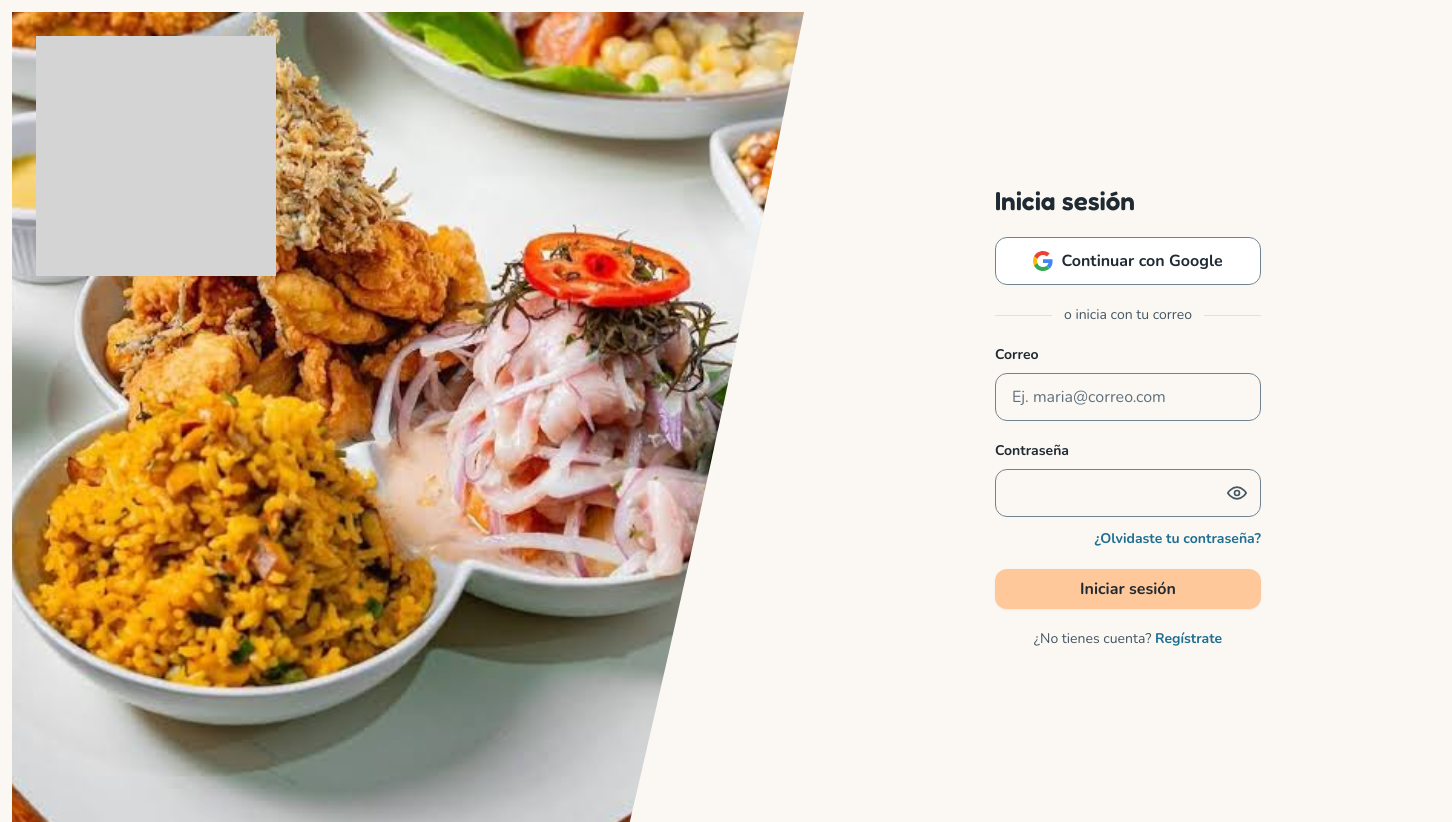
Test case: LoginPage › muestra los campos obligatorios vacíos al enviar sin completar nada
The width and height of the screenshot is (1452, 822).
Click the button "Iniciar sesión". click: (1128, 589)
box: [995, 569, 1261, 609]
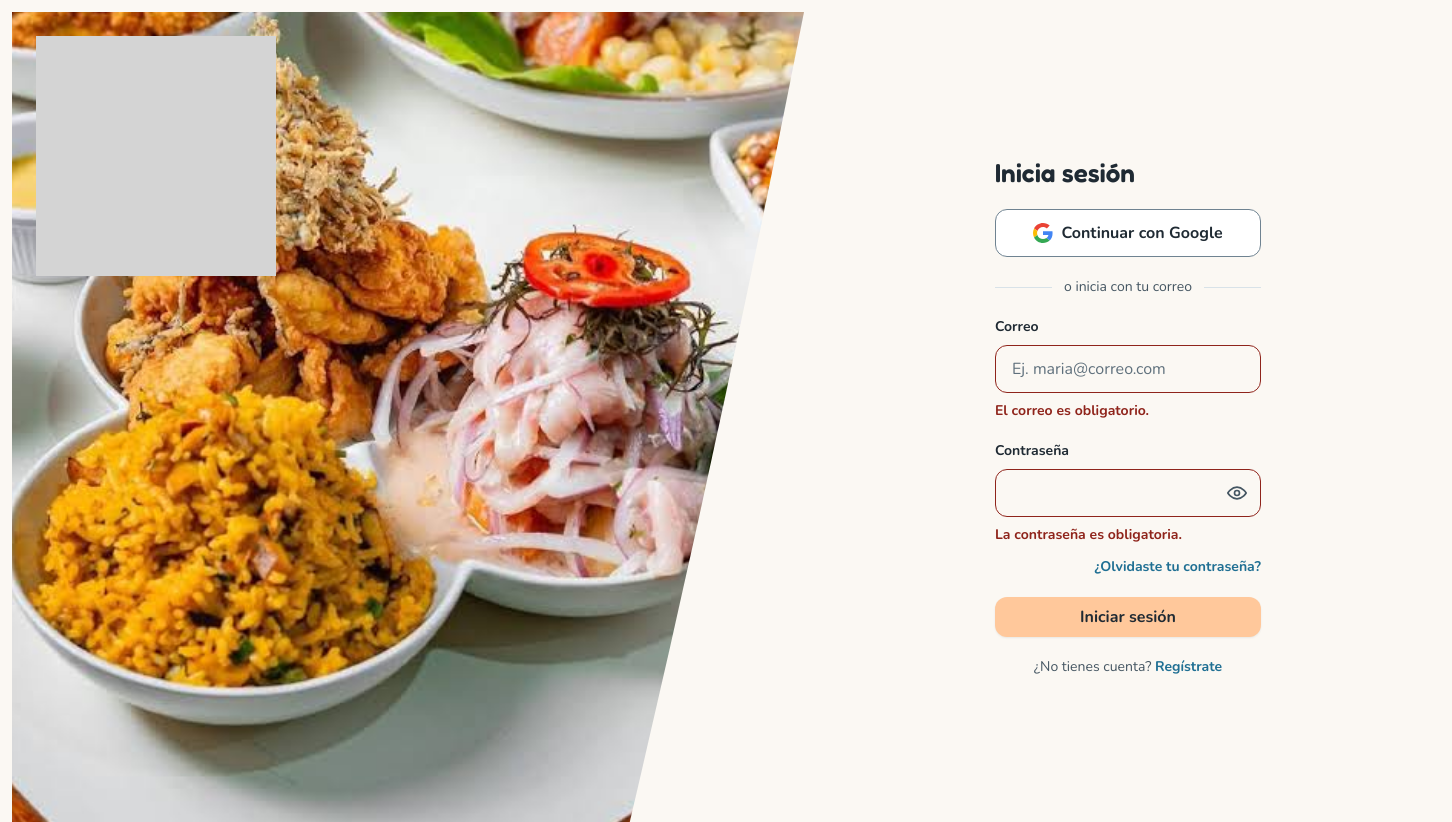
Now the text "El correo es obligatorio." is shown, box [995, 401, 1149, 420]
Now the text "La contraseña es obligatoria." is shown, box [995, 525, 1182, 544]
